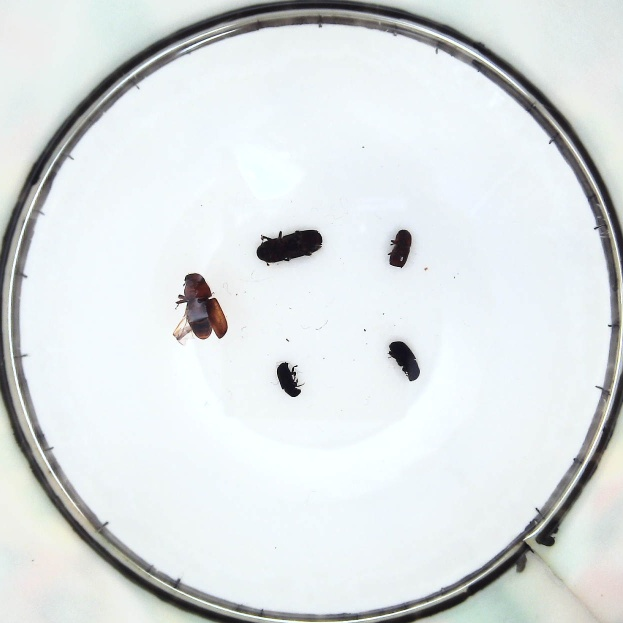armandi: (389, 341, 418, 379)
boerner: (254, 229, 324, 260)
coleoptera: (276, 360, 301, 396)
leconte: (171, 270, 227, 341)
linnaeus: (388, 227, 413, 269)
